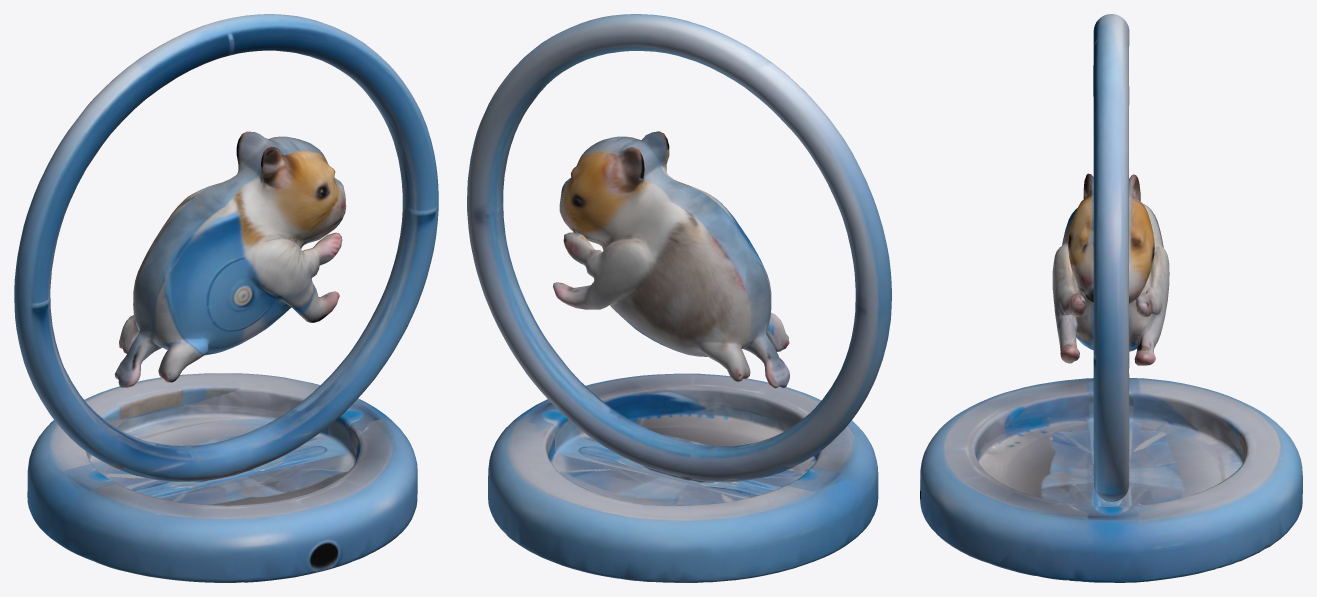
The model's file is hamster.glb.
3 renders of one model, left to right at view 1: azimuth 30°, elevation 25°; view 2: azimuth 150°, elevation 25°; view 3: azimuth 270°, elevation 25°, orthographic. The views are drawn at different scales.
Parts seen in each view (by area): view 1: Mesh1.0; view 2: Mesh1.0; view 3: Mesh1.0.
Part boxes in pixels (<box>): Mesh1.0: <box>14,14,438,582</box>; Mesh1.0: <box>467,14,891,582</box>; Mesh1.0: <box>920,14,1302,582</box>.
Size of the model in its own units: 1.83 by 2 by 1.48.
Materials: 1 (1 with a texture image).
